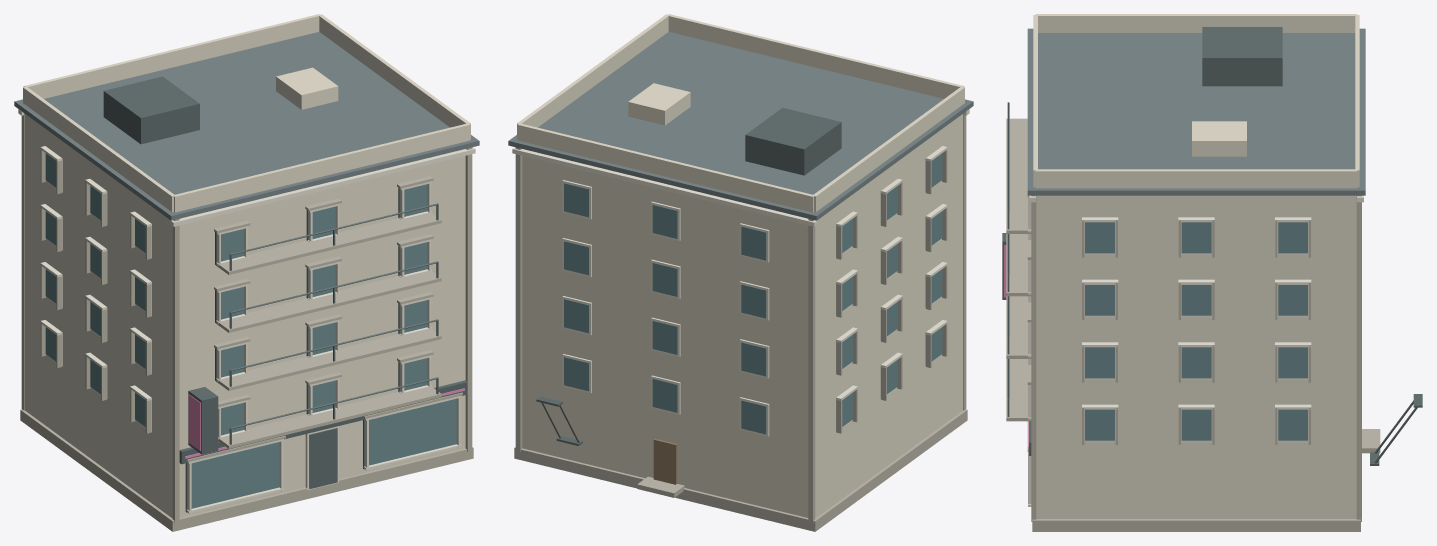
3 views of the same model, side by side, from view 1: azimuth 30°, elevation 25°; view 2: azimuth 150°, elevation 25°; view 3: azimuth 270°, elevation 25° (orthographic). The views are drawn at different scales.
Size of the model in its own units: 16.7 by 17.83 by 18.3.
